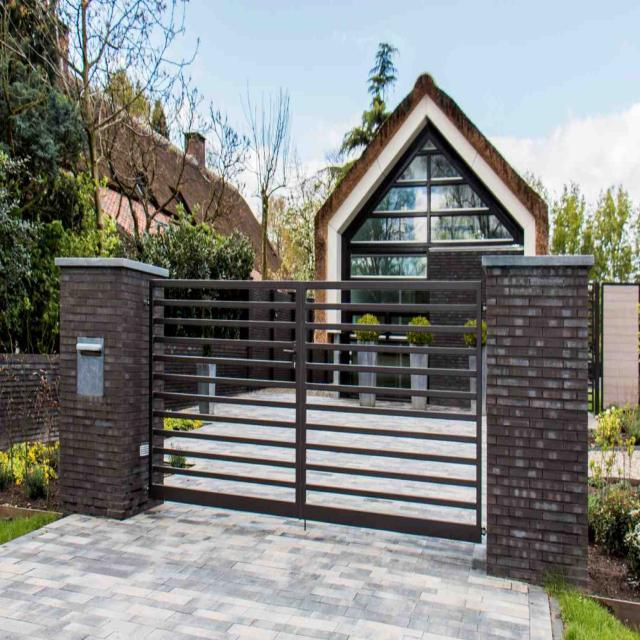fence line: (153, 256, 495, 564)
